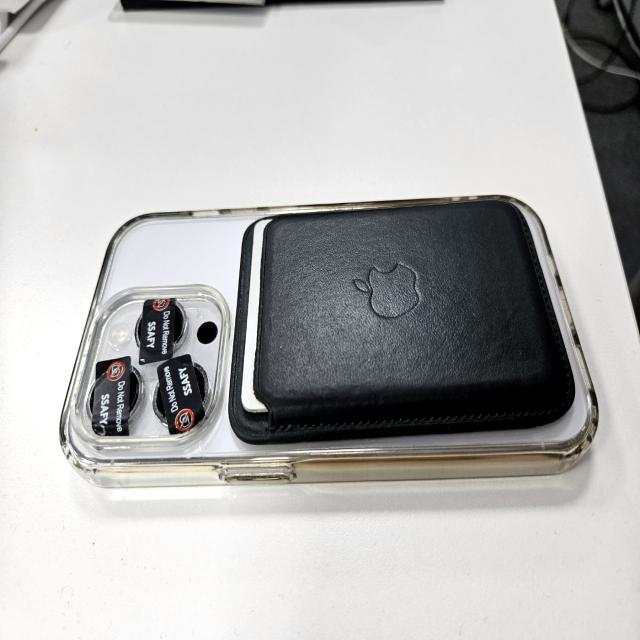phone: (58, 192, 600, 488)
sticker: (158, 352, 205, 436), (94, 356, 130, 435), (139, 298, 173, 365)
